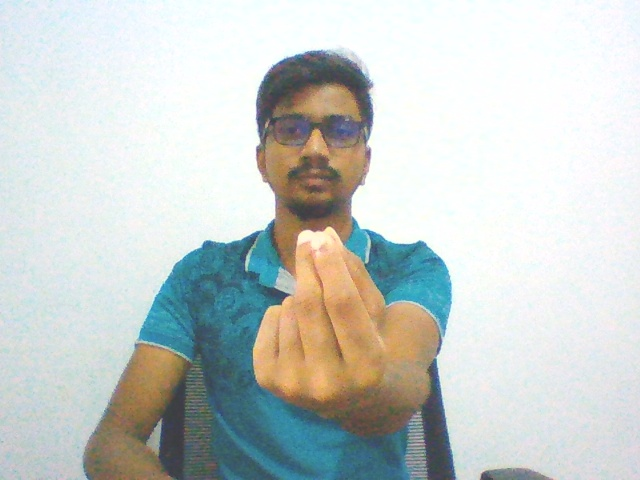dog: (242, 220, 398, 430)
